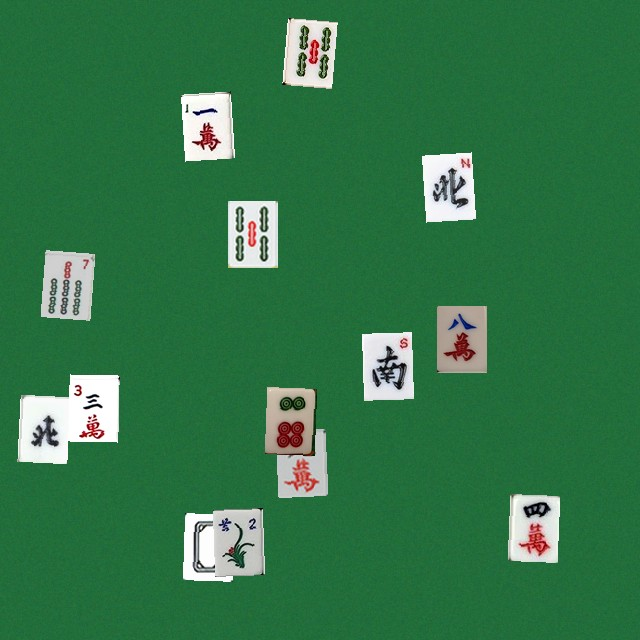tile: (182, 513, 232, 580), (436, 305, 486, 372), (212, 508, 262, 575), (227, 200, 277, 267), (275, 428, 325, 495), (180, 91, 230, 158), (40, 250, 90, 317), (282, 17, 332, 84), (17, 394, 67, 461), (507, 494, 557, 561), (361, 332, 411, 399), (68, 374, 118, 441), (421, 152, 471, 219), (264, 387, 314, 454)
